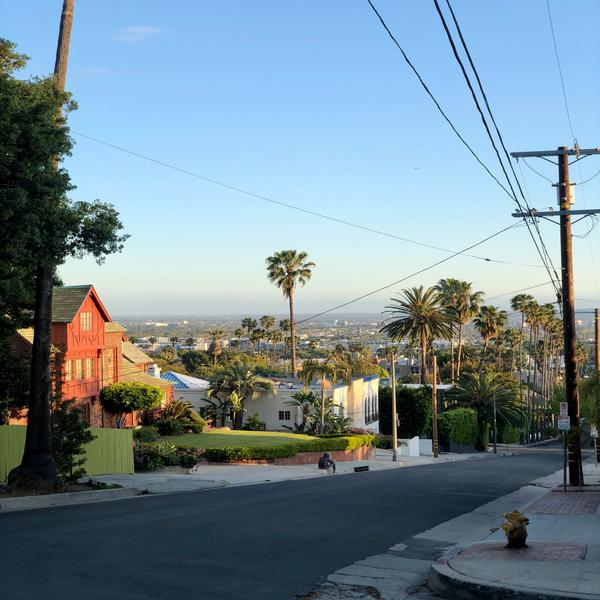utility_pole: (502, 133, 600, 259)
